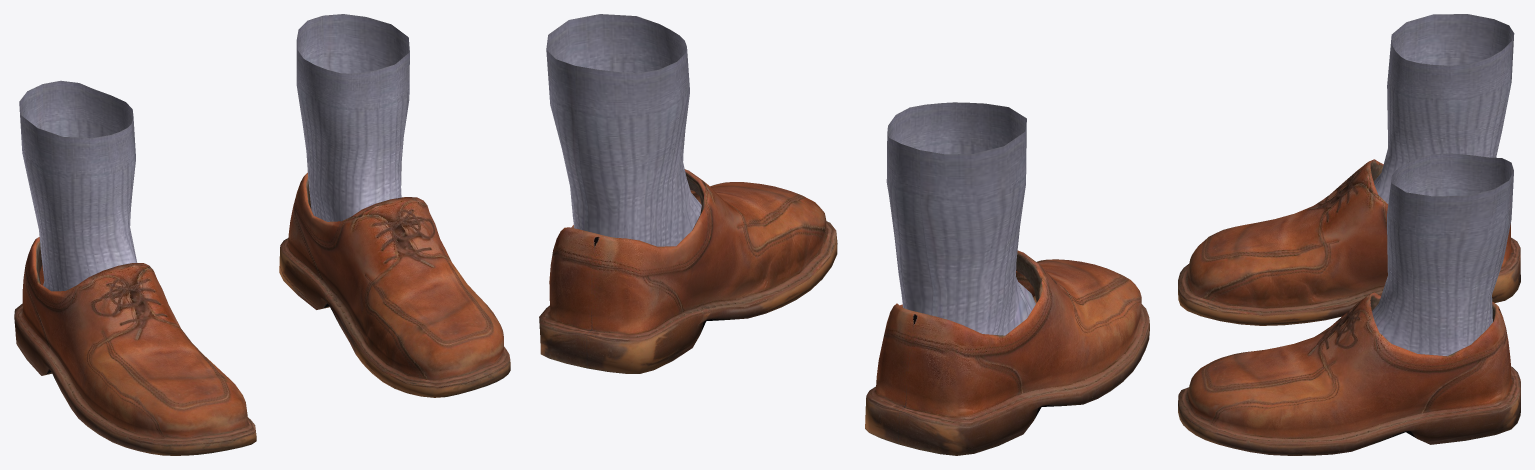
The model's file is shoes_brown_leather.gltf.
The picture shows the model from 3 angles, left to right: view 1: azimuth 30°, elevation 25°; view 2: azimuth 150°, elevation 25°; view 3: azimuth 270°, elevation 25°; orthographic projection. The views are drawn at different scales.
Parts seen in each view (by area): view 1: shoes_brown_leather; view 2: shoes_brown_leather; view 3: shoes_brown_leather.
Part boxes in pixels (<box>): shoes_brown_leather: <box>14,14,510,455</box>; shoes_brown_leather: <box>539,14,1149,455</box>; shoes_brown_leather: <box>1178,14,1520,455</box>.
Bounding box in the file's own units: 0.337 × 0.2126 × 0.2537.
1 material, 1 textured.
